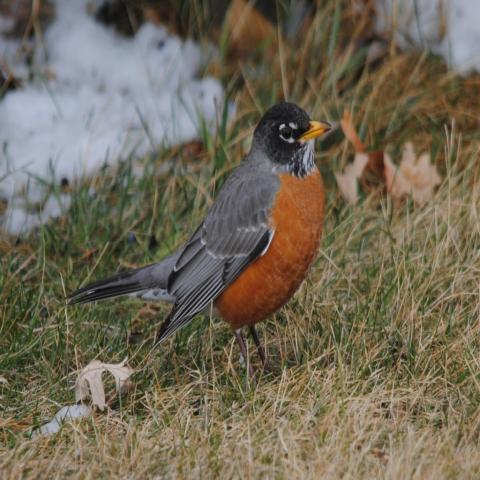bird: (64, 98, 333, 389)
